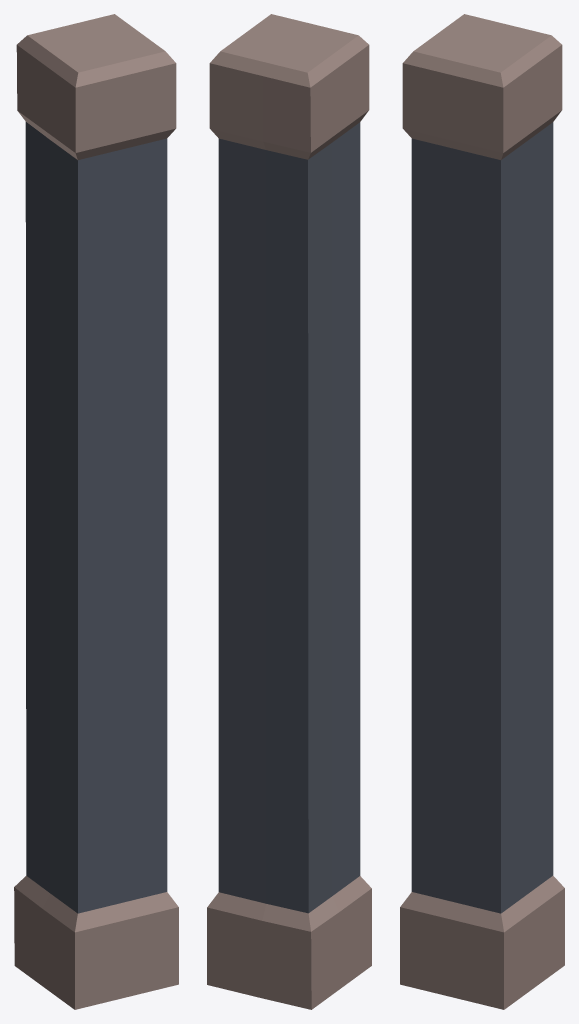
File: g_o_CellWallCorner360.fbx
3 views of the same model, side by side, from view 1: azimuth 30°, elevation 25°; view 2: azimuth 150°, elevation 25°; view 3: azimuth 330°, elevation 25° (orthographic).
Parts seen in each view (by area): view 1: g_o_CellWallCorner360; view 2: g_o_CellWallCorner360; view 3: g_o_CellWallCorner360.
Part boxes in pixels (x1,y1,x2,y2): g_o_CellWallCorner360: (14, 14, 178, 1009); g_o_CellWallCorner360: (207, 14, 371, 1009); g_o_CellWallCorner360: (400, 14, 564, 1009).
Bounding box in the file's own units: 0.2198 × 1.88 × 0.2223.
